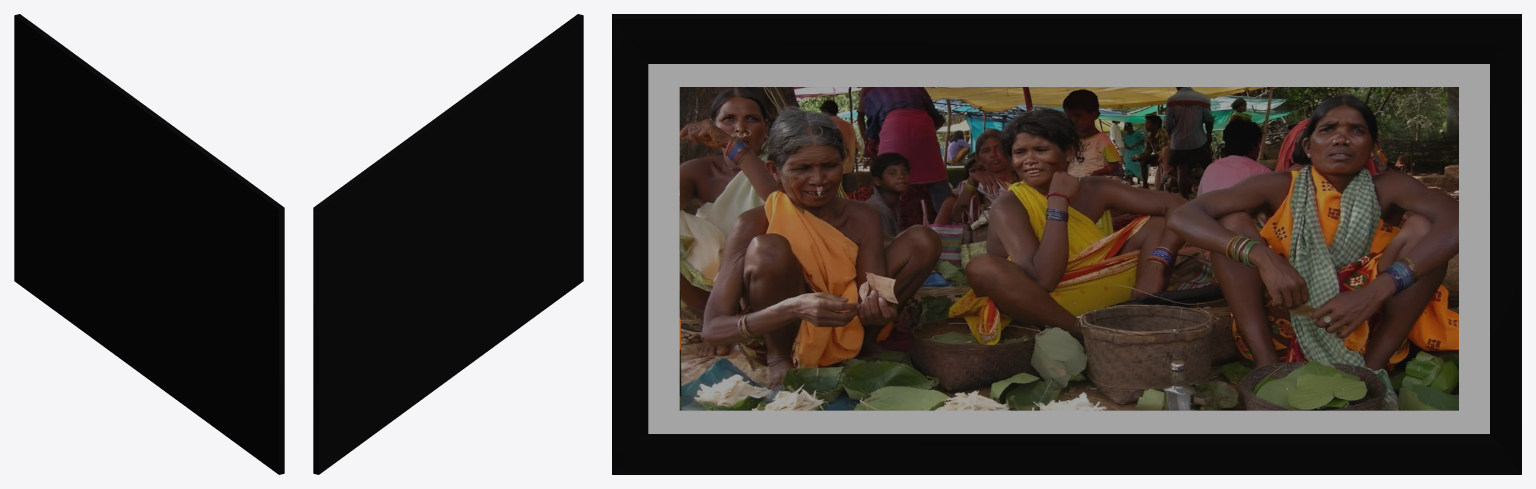
Rendered from Frame10.fbx.
3 renders of one model, left to right at view 1: azimuth 30°, elevation 25°; view 2: azimuth 150°, elevation 25°; view 3: azimuth 270°, elevation 25°, orthographic. The views are drawn at different scales.
Parts seen in each view (by area): view 1: Box046.001; view 2: Box046.001; view 3: Box046.001.
Boxes of the visible parts, <box> form: Box046.001: <box>14,14,284,474</box>; Box046.001: <box>313,14,583,474</box>; Box046.001: <box>612,14,1521,474</box>.
Size of the model in its own units: 6.3 by 269 by 486.
Materials: 3 (1 with a texture image).
